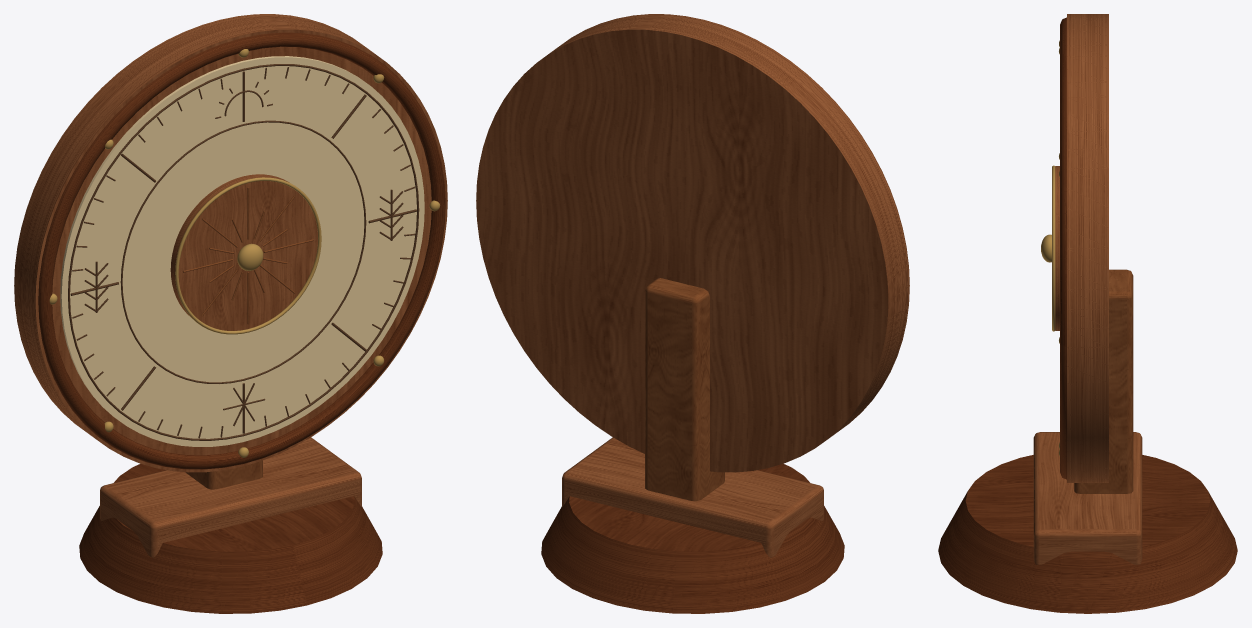
Rendered from calendar-dial.glb.
3 views of the same model, side by side, from view 1: azimuth 30°, elevation 25°; view 2: azimuth 150°, elevation 25°; view 3: azimuth 270°, elevation 25° (orthographic).
Parts seen in each view (by area): view 1: Wooden seasonal calendar dial; view 2: Wooden seasonal calendar dial; view 3: Wooden seasonal calendar dial.
Boxes of the visible parts, x1,y1,x2,y2 form: Wooden seasonal calendar dial: [14, 14, 447, 613]; Wooden seasonal calendar dial: [476, 14, 909, 613]; Wooden seasonal calendar dial: [938, 14, 1237, 613].
Bounding box in the file's own units: 0.836 × 1.01 × 0.534.
Materials: 6 (3 with a texture image).
